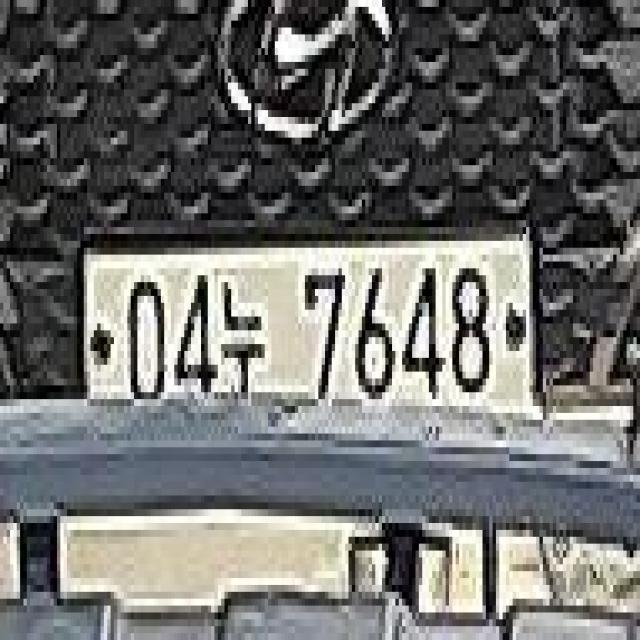illegal_plate: (73, 222, 539, 452)
